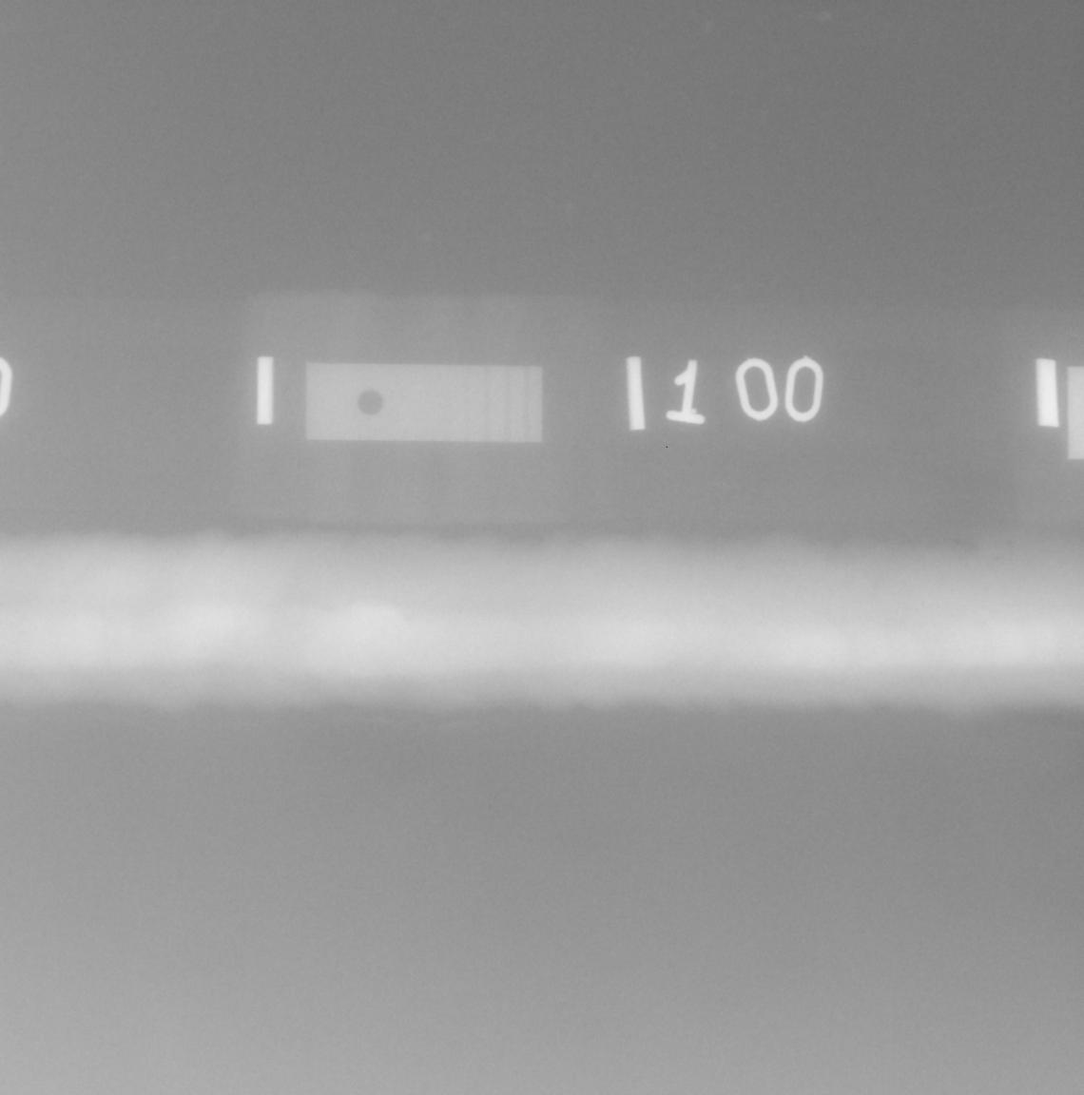Pore/Porosity: (1006, 540, 1011, 547)
Reference Standard 1: (305, 363, 542, 443)
